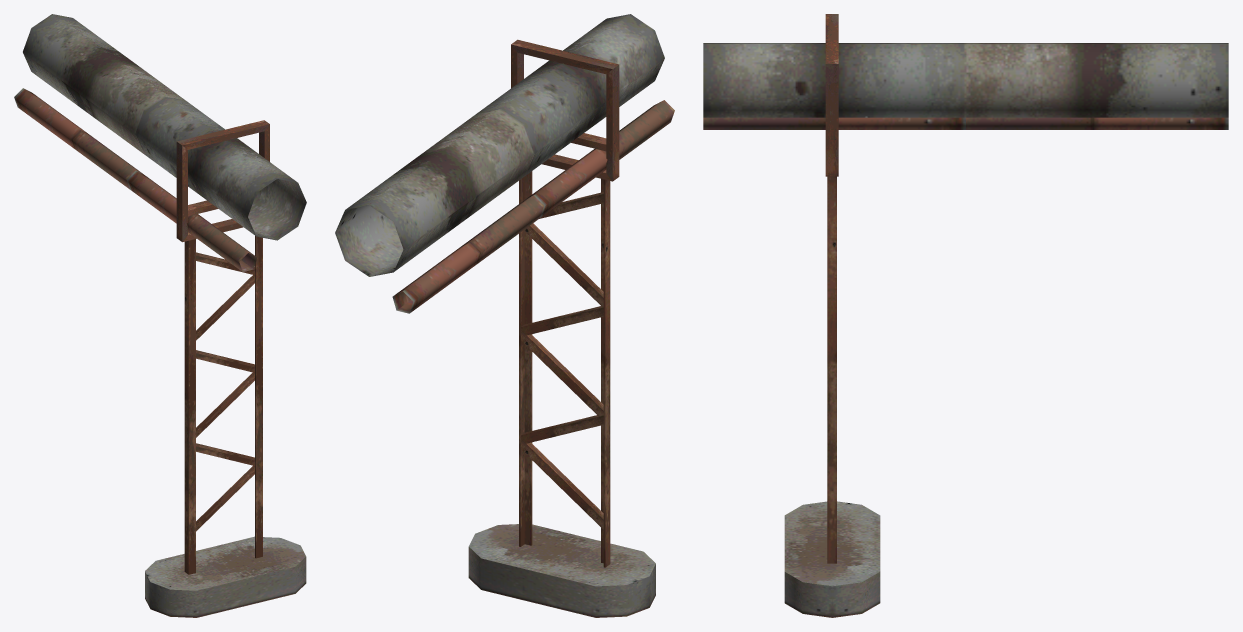
The model's file is Pipe_horizontal_short.fbx.
3 views of the same model, side by side, from view 1: azimuth 30°, elevation 25°; view 2: azimuth 150°, elevation 25°; view 3: azimuth 270°, elevation 25° (orthographic). The views are drawn at different scales.
Visible parts, largest first — view 1: Pipe_horizontal_short; view 2: Pipe_horizontal_short; view 3: Pipe_horizontal_short.
Part boxes in pixels (left/top/right/bottom): Pipe_horizontal_short: left=14, top=14, right=306, bottom=617; Pipe_horizontal_short: left=335, top=14, right=674, bottom=617; Pipe_horizontal_short: left=703, top=14, right=1228, bottom=617.
Bounding box in the file's own units: 177 × 515 × 458.
